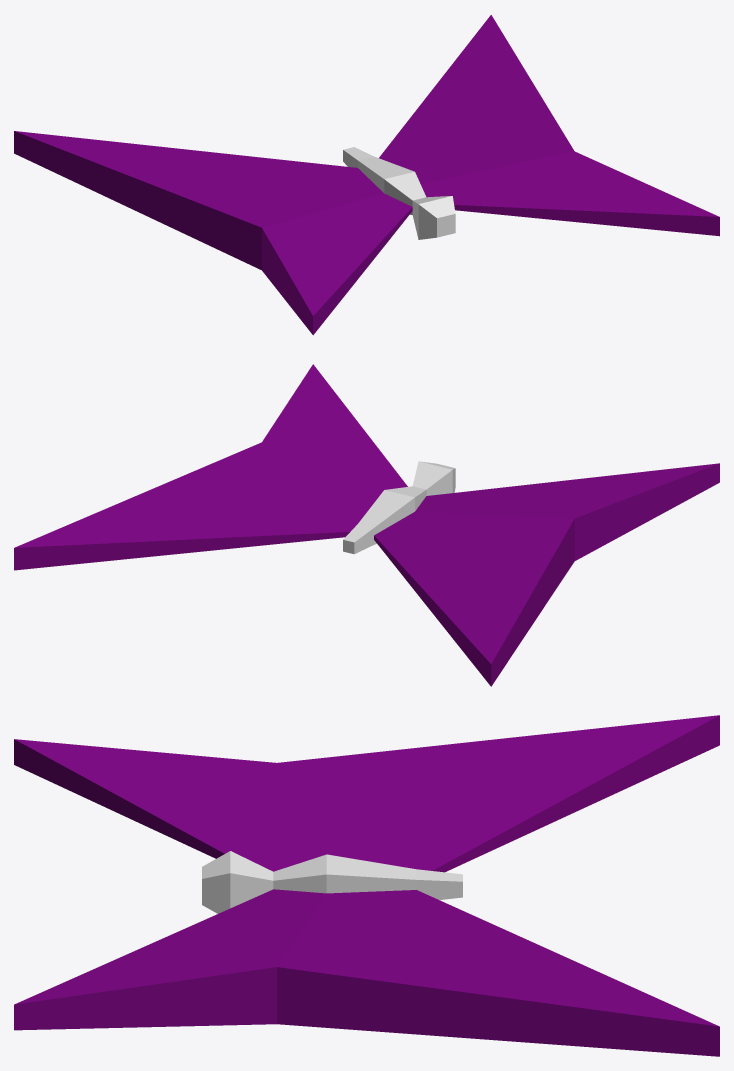
The model's file is butterfly.fbx.
The picture shows the model from 3 angles, top to bottom: view 1: azimuth 30°, elevation 25°; view 2: azimuth 150°, elevation 25°; view 3: azimuth 270°, elevation 25°; orthographic projection. The views are drawn at different scales.
Visible parts, largest first — view 1: brabuleta; view 2: brabuleta; view 3: brabuleta.
Part boxes in pixels (x1,y1,x2,y2): brabuleta: (14,15,719,335); brabuleta: (14,364,719,686); brabuleta: (14,715,719,1056).
Bounding box in the file's own units: 0.563 × 0.0507 × 0.5394.
